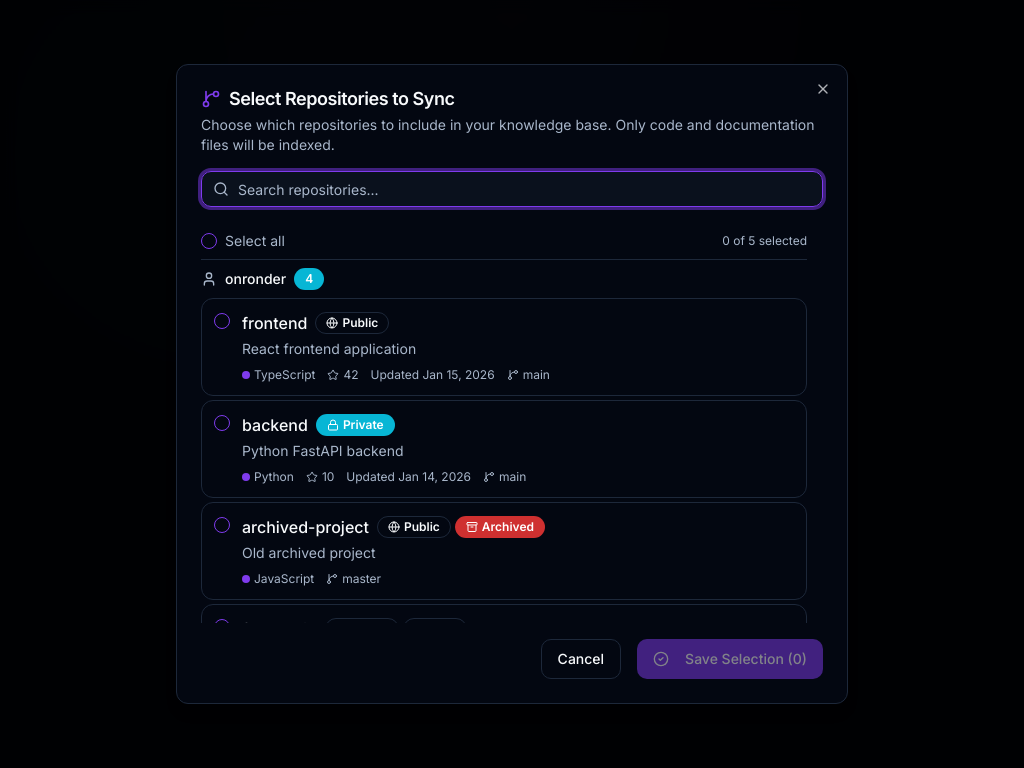
it: GitHubRepoSelector › filters repos by search query
The width and height of the screenshot is (1024, 768).
Expected: the text "frontend" is shown, 242,311 -> 308,335
# Search for "Python"
Type "Python" into the field with placeholder "Search repositories..." at (512, 189), box 201,171 -> 823,207
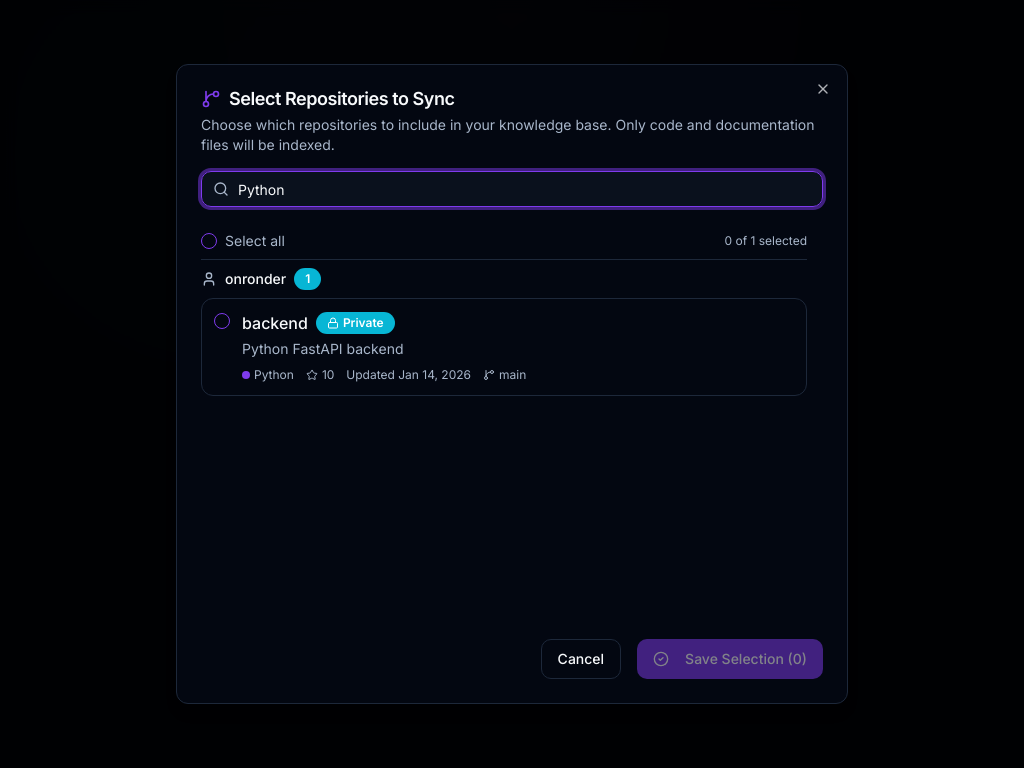
Expected: the text "backend" is shown, 242,311 -> 308,335
Now the button "frontend" is gone
